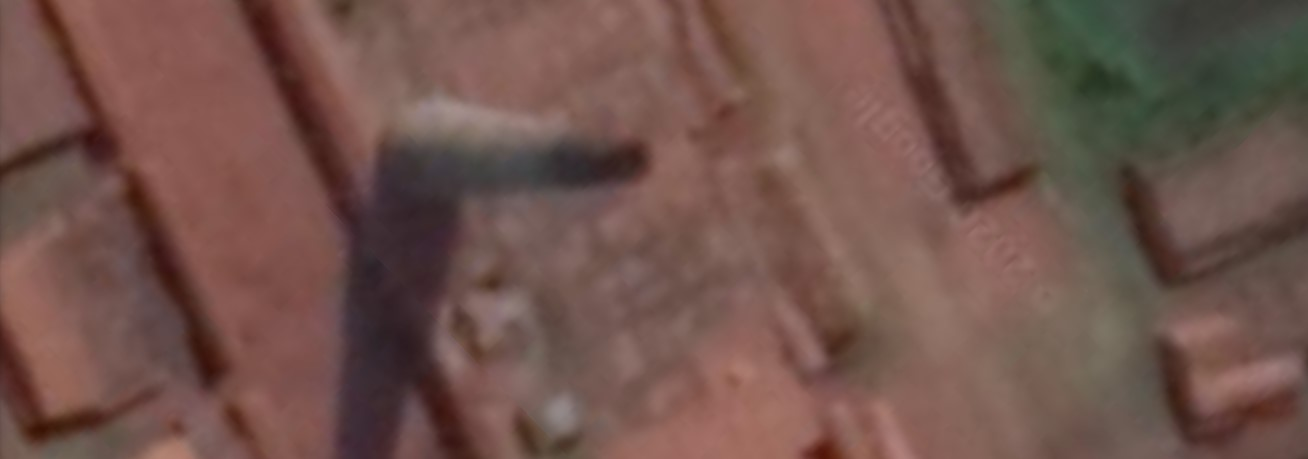kiln: (53, 4, 890, 459)
